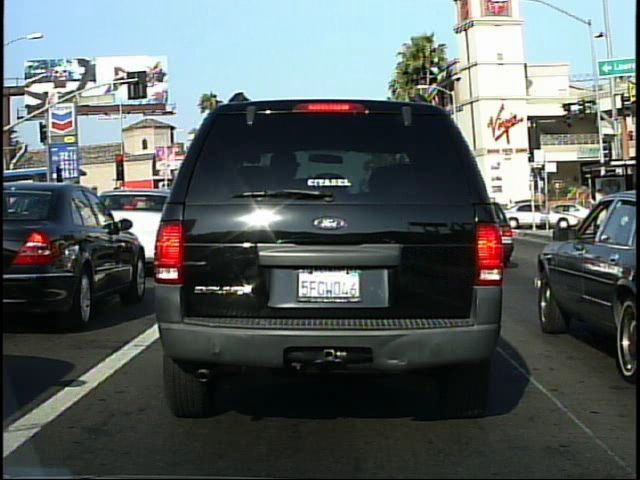person: (591, 184, 613, 246), (506, 198, 519, 224)
